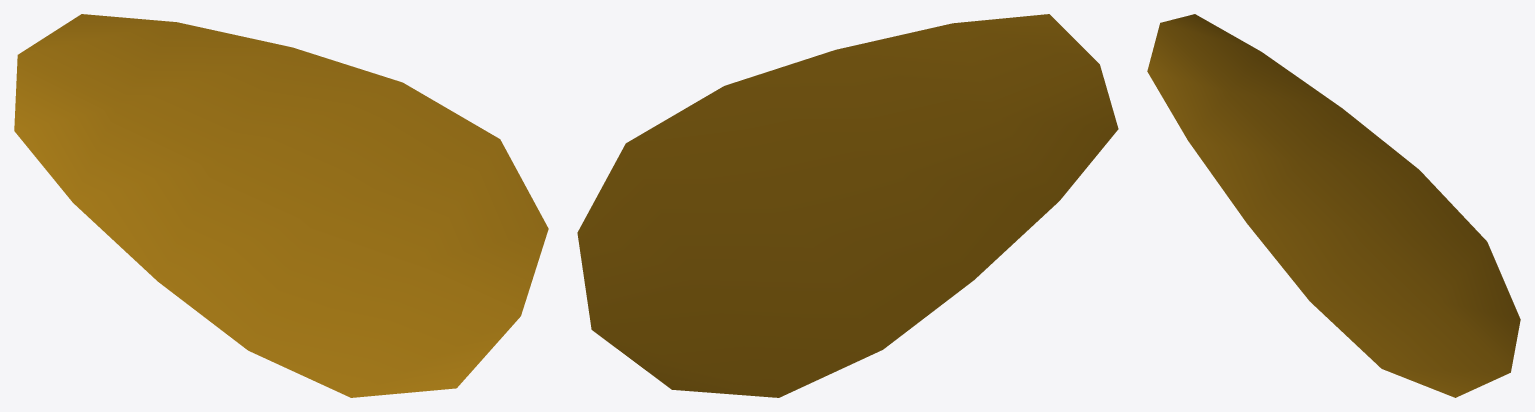
The model's file is canary_feather_flight_tertiary_060.obj.
The picture shows the model from 3 angles, left to right: view 1: azimuth 30°, elevation 25°; view 2: azimuth 150°, elevation 25°; view 3: azimuth 330°, elevation 25°; orthographic projection. The views are drawn at different scales.
Parts seen in each view (by area): view 1: feather_flight_tertiary_060; view 2: feather_flight_tertiary_060; view 3: feather_flight_tertiary_060.
Part boxes in pixels (left/top/right/bottom): feather_flight_tertiary_060: left=14, top=14, right=548, bottom=397; feather_flight_tertiary_060: left=577, top=14, right=1118, bottom=397; feather_flight_tertiary_060: left=1147, top=14, right=1520, bottom=397.
Bounding box in the file's own units: 0.00662 × 0.00549 × 0.000234.
